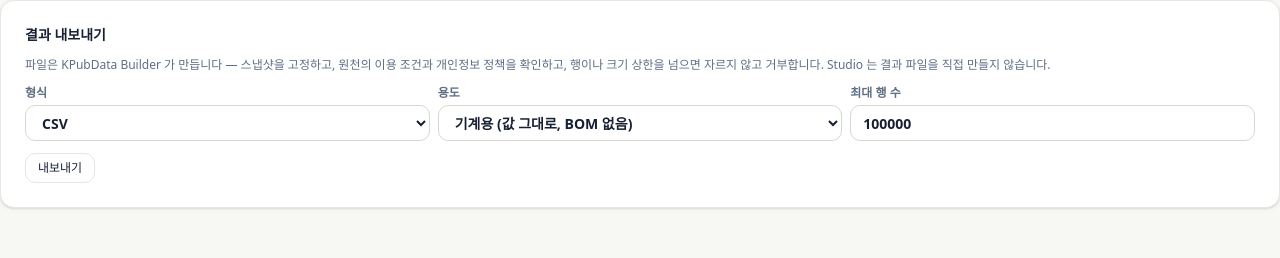
it: the export panel asks Builder and shows its manifest (#501) › a refusal is not shown as success: {"code":"row_limit_exceeded","message":"too many","limit":100000}
Click the button "내보내기" at (60, 168), box x1=25 y1=153 x2=95 y2=183
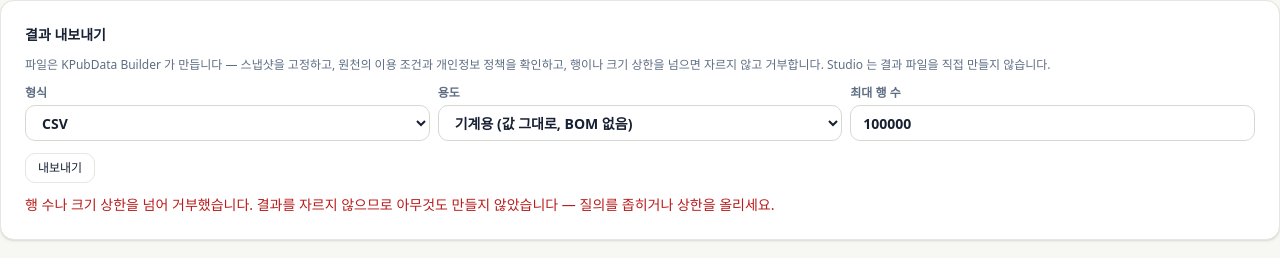
Check: the message shows "자르지 않으므로 아무것도 만들지 않았습니다", box x1=25 y1=195 x2=774 y2=214
